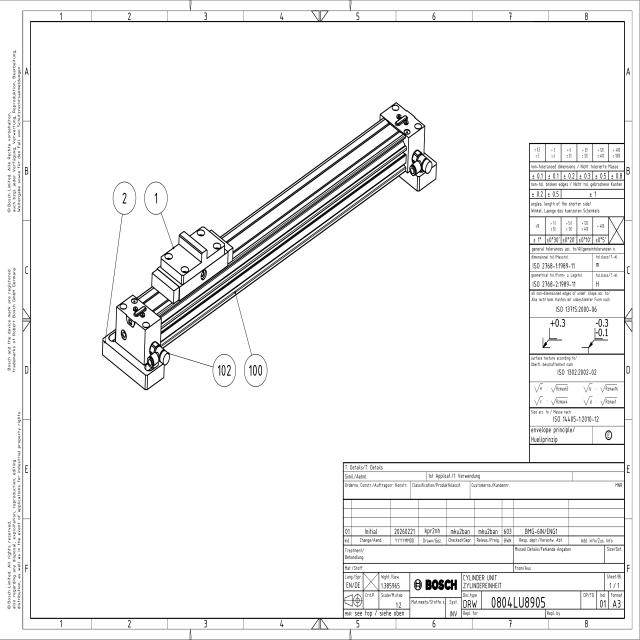dimension: (212, 353, 237, 388), (243, 353, 268, 388), (112, 181, 136, 215), (144, 181, 168, 215)
